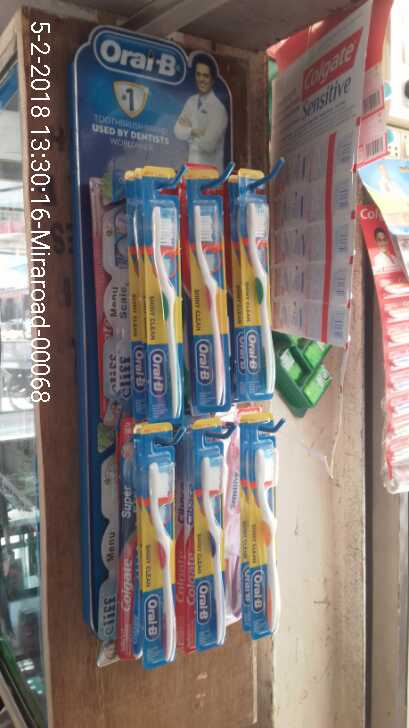oralb: (128, 434, 177, 663), (185, 443, 233, 647), (128, 201, 171, 417), (235, 444, 281, 639), (229, 188, 272, 396), (190, 202, 233, 404)
